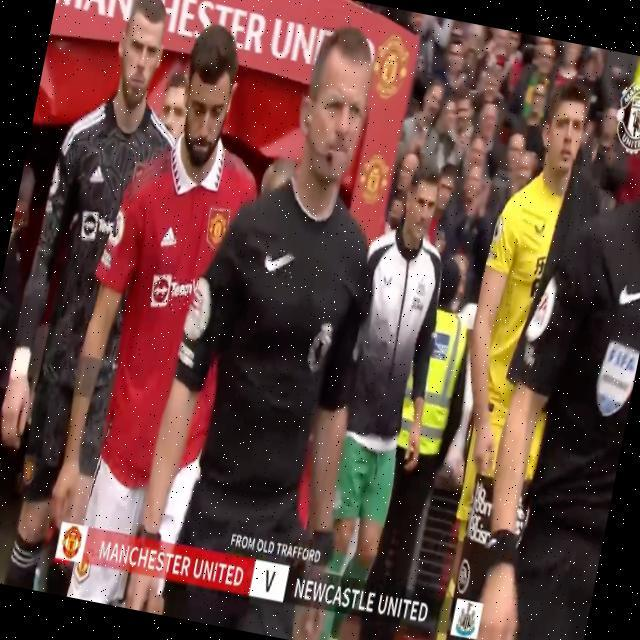Adidas: (159, 224, 181, 253), (87, 162, 109, 190)
Nike: (261, 245, 298, 281), (617, 276, 640, 312)
TeamViewer: (149, 273, 200, 315), (79, 211, 116, 245)
